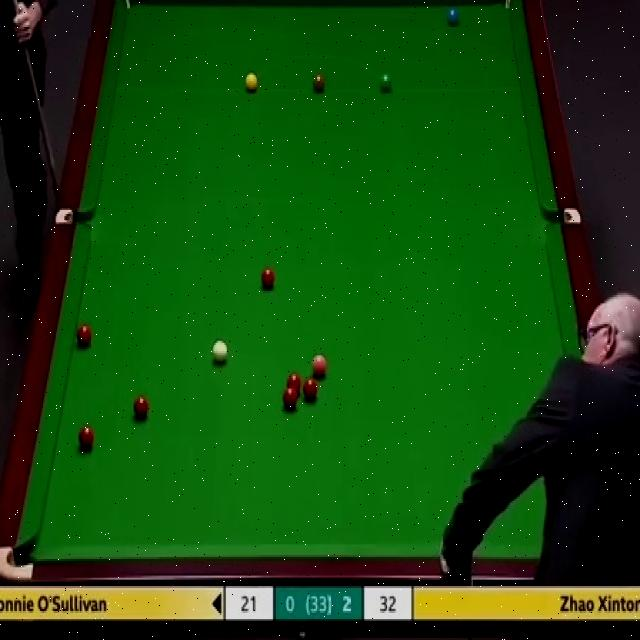blue-ball: (448, 7, 458, 29)
brown-ball: (312, 75, 326, 92)
green-ball: (379, 71, 393, 95)
pink-ball: (311, 353, 328, 377)
red-ball: (74, 323, 92, 349), (302, 377, 318, 402), (77, 426, 94, 448), (287, 372, 301, 397), (133, 396, 147, 420), (259, 268, 275, 288), (283, 387, 297, 408)
white-ball: (213, 338, 229, 364)
yellow-ball: (244, 72, 258, 93)
